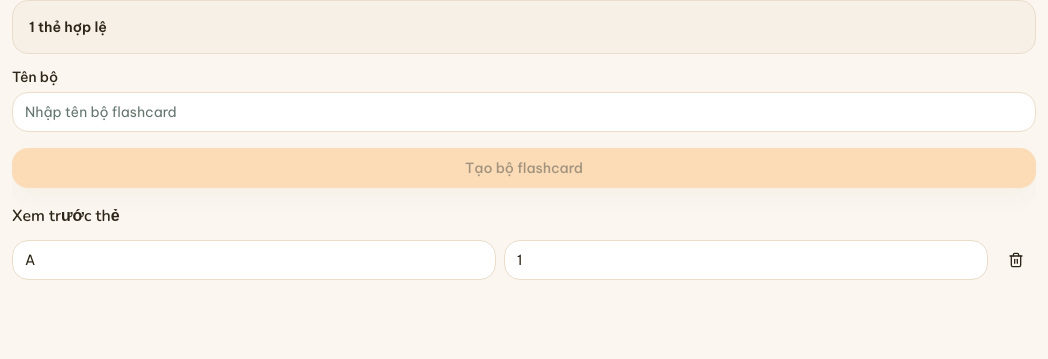
Scenario: CreateSummary › shows a server error when the import action fails
In the field labelled "Tên bộ": (524, 112) [12,92,1036,132], type "Trùng"
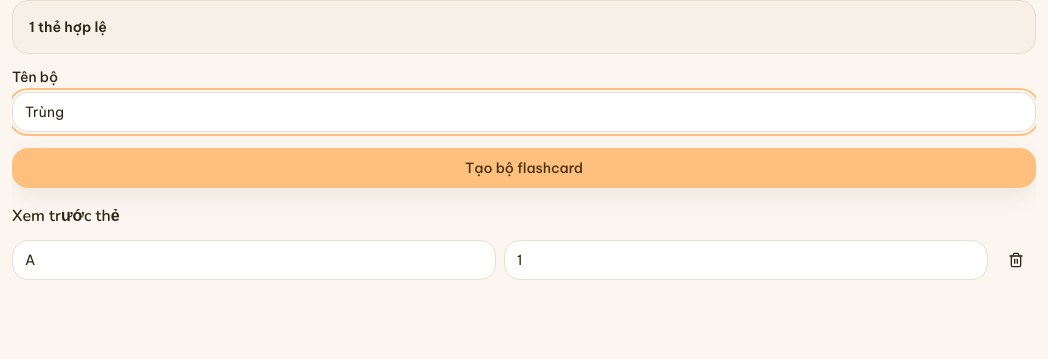
Click the button "Tạo bộ flashcard": (524, 168) [12,148,1036,188]
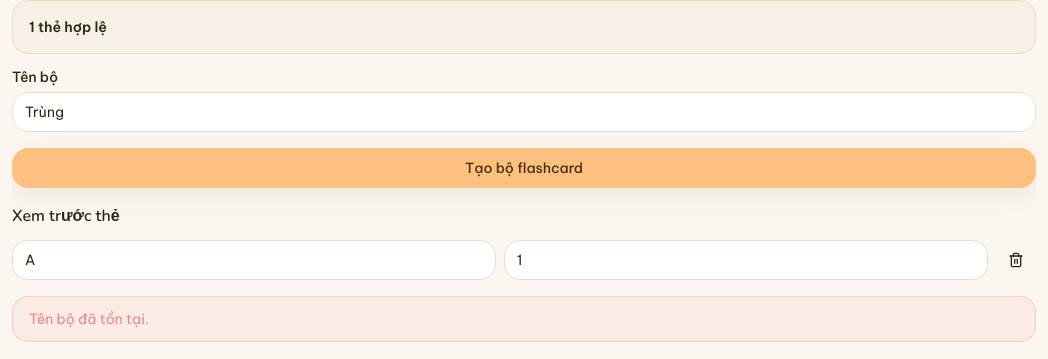
Now the message reads "Tên bộ đã tồn tại.", box [29,310,149,328]
